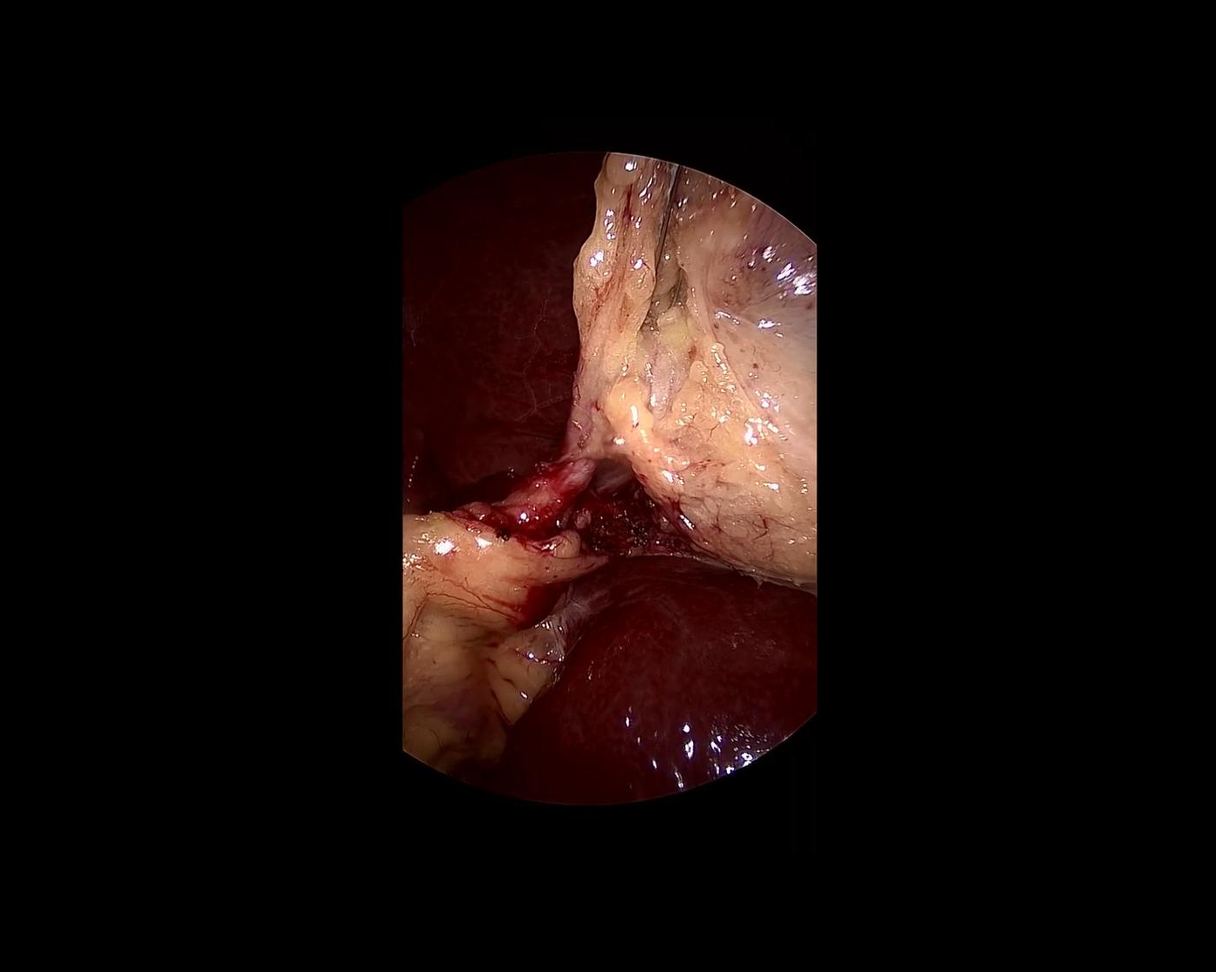Gallbladder: (574, 154, 814, 585)
Liver: (492, 555, 814, 802), (402, 153, 600, 513)
